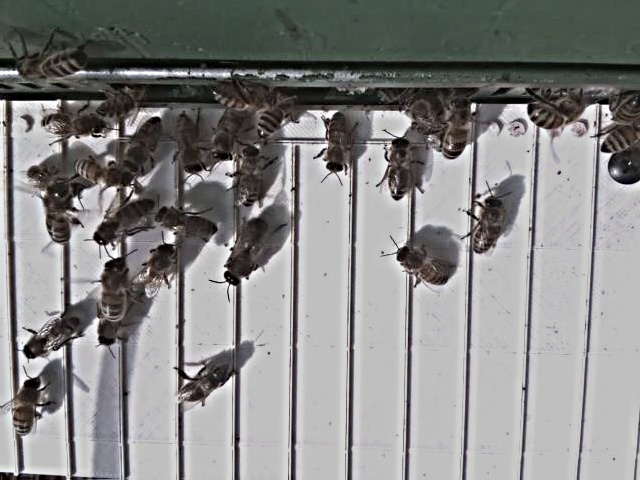Drone: (220, 216, 273, 292)
Worker: (90, 195, 153, 249), (18, 315, 82, 363), (119, 117, 166, 175), (151, 205, 220, 244), (467, 192, 506, 259), (169, 111, 206, 179), (395, 244, 449, 290), (175, 364, 229, 409), (524, 96, 586, 134), (254, 90, 296, 145), (382, 136, 414, 208), (209, 104, 246, 166), (35, 112, 109, 143), (96, 258, 129, 325), (441, 91, 470, 165), (41, 180, 72, 249), (231, 142, 262, 211), (9, 377, 42, 439), (73, 157, 129, 192), (322, 113, 353, 176), (596, 121, 640, 160)
